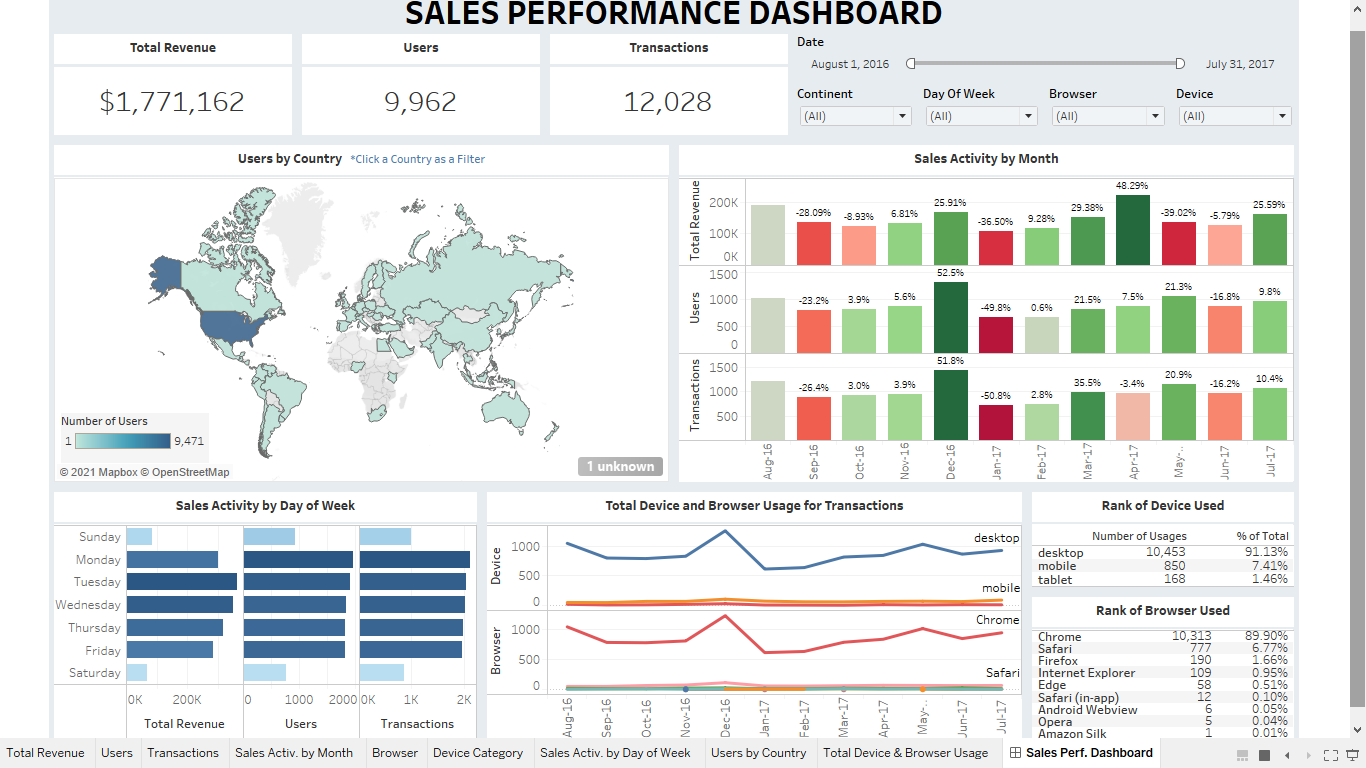

The dashboard page shown, as its layout file describes it:
{"tool":"tableau","page":{"name":"Sales Perf. Dashboard","canvas":[1024,768],"ordinal":0},"visuals":[{"type":"worksheet","box":[0,0,1024,768]},{"type":"worksheet","box":[8,8,1008,36]},{"type":"worksheet","param":"horz","box":[8,44,200,111]},{"type":"worksheet","title":"Total Revenue","mark":"Automatic","box":[8,44,200,111]},{"type":"worksheet","param":"horz","box":[208,44,200,111]},{"type":"worksheet","title":"Users","mark":"Automatic","box":[208,44,200,111]},{"type":"worksheet","param":"horz","box":[408,44,200,111]},{"type":"worksheet","title":"Transactions","mark":"Automatic","box":[408,44,200,111]},{"type":"worksheet","param":"vert","box":[608,44,408,52]},{"type":"worksheet","param":"horz","box":[608,44,408,51]},{"type":"worksheet","title":"Total Revenue","mark":"Automatic","param":"[federated.18t7r7m0hok21y1fbt6wf1u2m9an].[tdy:date:qk]","box":[608,44,408,51]},{"type":"worksheet","title":"Total Revenue","mark":"Automatic","param":"[federated.18t7r7m0hok21y1fbt6wf1u2m9an].[none:continent:nk]","box":[608,96,141,59]},{"type":"worksheet","title":"Total Revenue","mark":"Automatic","param":"[federated.18t7r7m0hok21y1fbt6wf1u2m9an].[none:day_of_week:nk]","box":[749,96,141,59]},{"type":"worksheet","title":"Total Revenue","mark":"Automatic","param":"[federated.18t7r7m0hok21y1fbt6wf1u2m9an].[none:browser:nk]","box":[890,96,63,59]},{"type":"worksheet","title":"Total Revenue","mark":"Automatic","param":"[federated.18t7r7m0hok21y1fbt6wf1u2m9an].[none:deviceCategory:nk]","box":[953,96,63,59]},{"type":"worksheet","param":"horz","box":[8,155,504,347]},{"type":"worksheet","title":"Users by Country","mark":"Automatic","box":[8,155,504,347]},{"type":"worksheet","param":"vert","box":[512,155,504,347]},{"type":"worksheet","title":"Sales Activ. by Month","mark":"Bar","rows":["totalTransactionRevenue","fullVisitorId","transactions"],"cols":["date"],"box":[512,155,504,347]},{"type":"worksheet","title":"Users by Country","mark":"Automatic","param":"[federated.18t7r7m0hok21y1fbt6wf1u2m9an].[ctd:fullVisitorId:qk]","box":[16,428,120,50]},{"type":"worksheet","param":"horz","box":[8,502,349,258]},{"type":"worksheet","title":"Sales Activ. by Day of Week","mark":"Automatic","rows":["day_of_week"],"cols":["totalTransactionRevenue","fullVisitorId","transactions"],"box":[8,502,349,258]},{"type":"worksheet","param":"vert","box":[357,502,481,258]},{"type":"worksheet","param":"horz","box":[357,502,481,258]},{"type":"worksheet","title":"Total Device & Browser Usage","mark":"Automatic","rows":["deviceCategory","browser"],"cols":["date"],"box":[357,502,481,258]},{"type":"worksheet","param":"vert","box":[838,502,178,258]},{"type":"worksheet","title":"Device Category","mark":"Text","rows":["deviceCategory"],"box":[838,502,178,89]},{"type":"worksheet","title":"Browser","mark":"Text","rows":["browser"],"box":[838,591,178,169]}]}

Visuals, with their boxes on the page's 1024x768 design canvas (x1, y1, x2, y2). These are canvas units, not pixel positions in the 1366x768 screenshot, which may show the page scaled, cropped or inside an application window:
worksheet: crop(0, 0, 1024, 768)
worksheet: crop(8, 8, 1016, 44)
worksheet: crop(8, 44, 208, 155)
"Total Revenue" worksheet: crop(8, 44, 208, 155)
worksheet: crop(208, 44, 408, 155)
"Users" worksheet: crop(208, 44, 408, 155)
worksheet: crop(408, 44, 608, 155)
"Transactions" worksheet: crop(408, 44, 608, 155)
worksheet: crop(608, 44, 1016, 96)
worksheet: crop(608, 44, 1016, 95)
"Total Revenue" worksheet: crop(608, 44, 1016, 95)
"Total Revenue" worksheet: crop(608, 96, 749, 155)
"Total Revenue" worksheet: crop(749, 96, 890, 155)
"Total Revenue" worksheet: crop(890, 96, 953, 155)
"Total Revenue" worksheet: crop(953, 96, 1016, 155)
worksheet: crop(8, 155, 512, 502)
"Users by Country" worksheet: crop(8, 155, 512, 502)
worksheet: crop(512, 155, 1016, 502)
"Sales Activ. by Month" worksheet (Bar marks): crop(512, 155, 1016, 502)
"Users by Country" worksheet: crop(16, 428, 136, 478)
worksheet: crop(8, 502, 357, 760)
"Sales Activ. by Day of Week" worksheet: crop(8, 502, 357, 760)
worksheet: crop(357, 502, 838, 760)
worksheet: crop(357, 502, 838, 760)
"Total Device & Browser Usage" worksheet: crop(357, 502, 838, 760)
worksheet: crop(838, 502, 1016, 760)
"Device Category" worksheet (Text marks): crop(838, 502, 1016, 591)
"Browser" worksheet (Text marks): crop(838, 591, 1016, 760)
